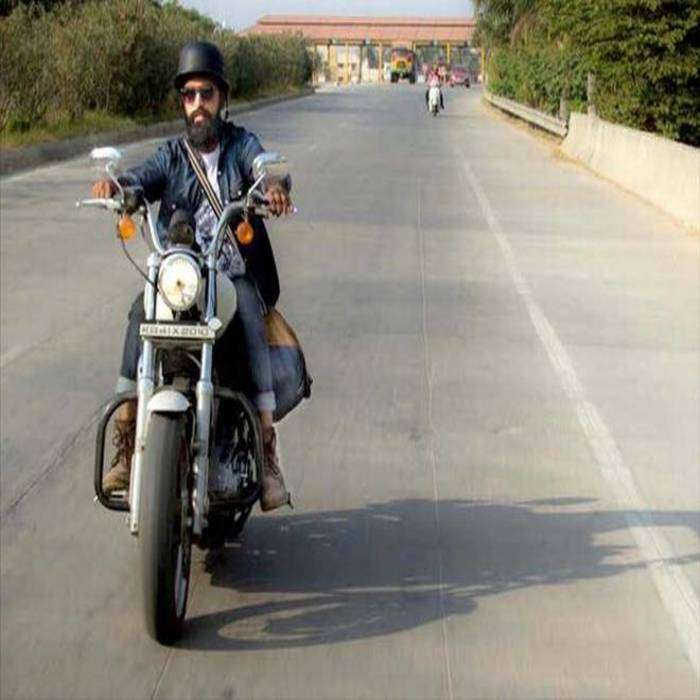h: (172, 39, 233, 94)
n: (138, 321, 217, 339)
